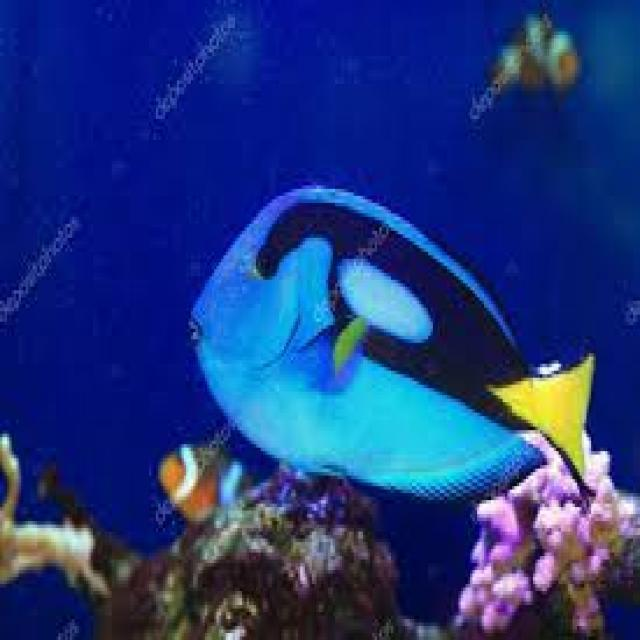TangFish: (185, 178, 593, 503)
